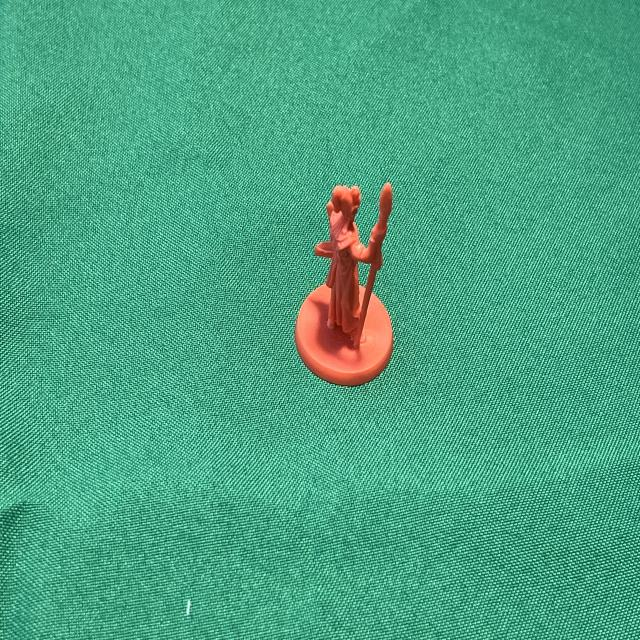amon_follower: (295, 183, 392, 385)
